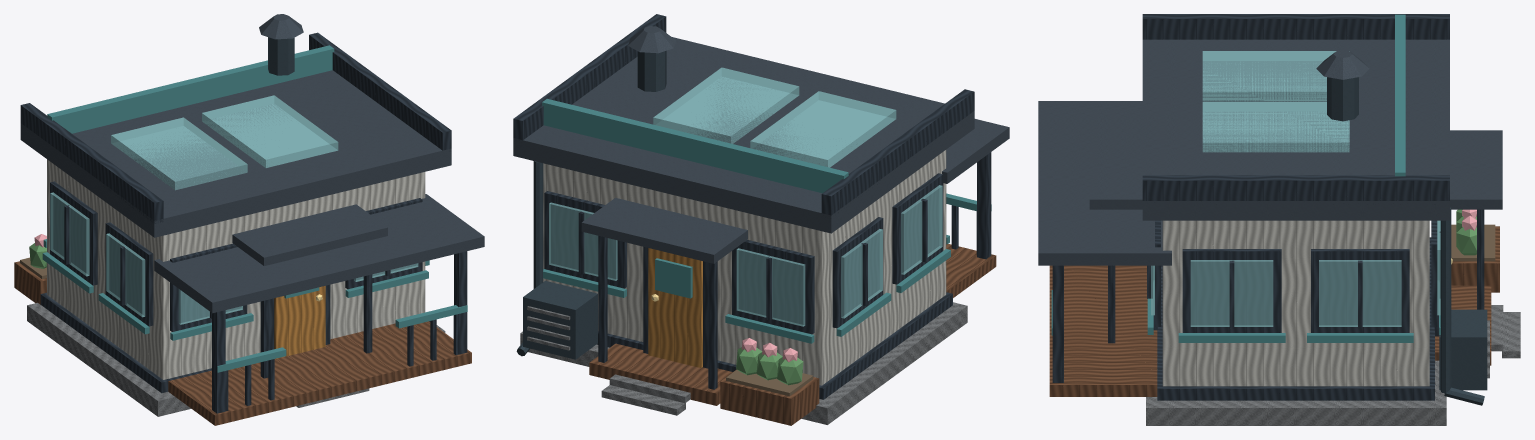
The model's file is house_modern_lv1_porch.glb.
3 renders of one model, left to right at view 1: azimuth 30°, elevation 25°; view 2: azimuth 150°, elevation 25°; view 3: azimuth 270°, elevation 25°, orthographic. The views are drawn at different scales.
Visible parts, largest first — view 1: flat_roof, walls, porch_roof, porch_floor, roof_terrace, solar_panel.001, solar_panel, front_porch_canopy, foundation, parapet, parapet.001, left_window_frame (+22 smaller); view 2: flat_roof, walls, roof_terrace, solar_panel, solar_panel.001, back_porch_canopy, back_window_frame, foundation, back_door, back_window_frame.001, parapet, back_ac_unit (+30 smaller); view 3: flat_roof, walls, porch_roof, porch_floor, foundation, right_window_frame, parapet.001, right_window_frame.001, parapet, solar_panel.001, solar_panel, right_window_glass (+22 smaller).
Boxes of the visible parts, x1=… form: flat_roof: x1=20, y1=70, x2=451, y2=237; walls: x1=47, y1=159, x2=425, y2=379; porch_roof: x1=154, y1=194, x2=484, y2=313; porch_floor: x1=168, y1=321, x2=471, y2=425; roof_terrace: x1=47, y1=45, x2=334, y2=133; solar_panel.001: x1=202, y1=95, x2=338, y2=167; solar_panel: x1=111, y1=117, x2=247, y2=190; front_porch_canopy: x1=232, y1=204, x2=387, y2=265; foundation: x1=27, y1=302, x2=445, y2=416; parapet: x1=20, y1=103, x2=163, y2=223; parapet.001: x1=309, y1=32, x2=451, y2=151; left_window_frame: x1=105, y1=222, x2=153, y2=326; flat_roof: x1=513, y1=37, x2=974, y2=233; walls: x1=543, y1=150, x2=946, y2=385; roof_terrace: x1=542, y1=98, x2=848, y2=193; solar_panel: x1=750, y1=91, x2=896, y2=167; solar_panel.001: x1=653, y1=67, x2=799, y2=143; back_porch_canopy: x1=581, y1=198, x2=747, y2=263; back_window_frame: x1=732, y1=239, x2=814, y2=334; foundation: x1=520, y1=302, x2=967, y2=424; back_door: x1=648, y1=248, x2=702, y2=367; back_window_frame.001: x1=544, y1=191, x2=626, y2=288; parapet: x1=821, y1=89, x2=974, y2=217; back_ac_unit: x1=523, y1=281, x2=597, y2=359; flat_roof: x1=1142, y1=39, x2=1449, y2=220; walls: x1=1162, y1=220, x2=1429, y2=386; porch_roof: x1=1038, y1=101, x2=1171, y2=265; porch_floor: x1=1049, y1=265, x2=1157, y2=396; foundation: x1=1146, y1=360, x2=1446, y2=425; right_window_frame: x1=1182, y1=249, x2=1281, y2=332; parapet.001: x1=1142, y1=175, x2=1449, y2=204; right_window_frame.001: x1=1311, y1=249, x2=1409, y2=332; parapet: x1=1142, y1=14, x2=1449, y2=39; solar_panel.001: x1=1202, y1=102, x2=1349, y2=152; solar_panel: x1=1202, y1=51, x2=1349, y2=101; right_window_glass: x1=1190, y1=260, x2=1273, y2=326.
Size of the model in its own units: 2.95 by 2.71 by 3.61.
Materials: 13 (7 with a texture image).
